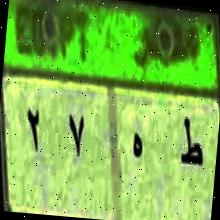2: (21, 100, 45, 161)
7: (63, 106, 88, 169)
Taa: (175, 108, 208, 177)
haa: (128, 124, 148, 168)
